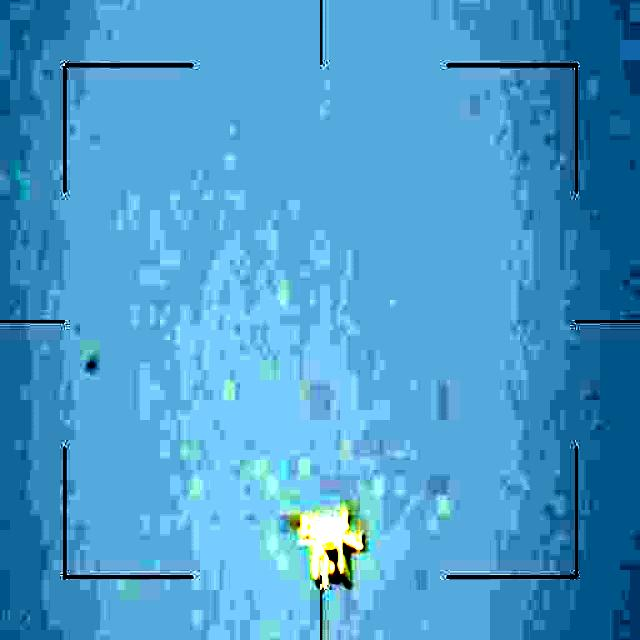bird: (290, 495, 369, 591)
